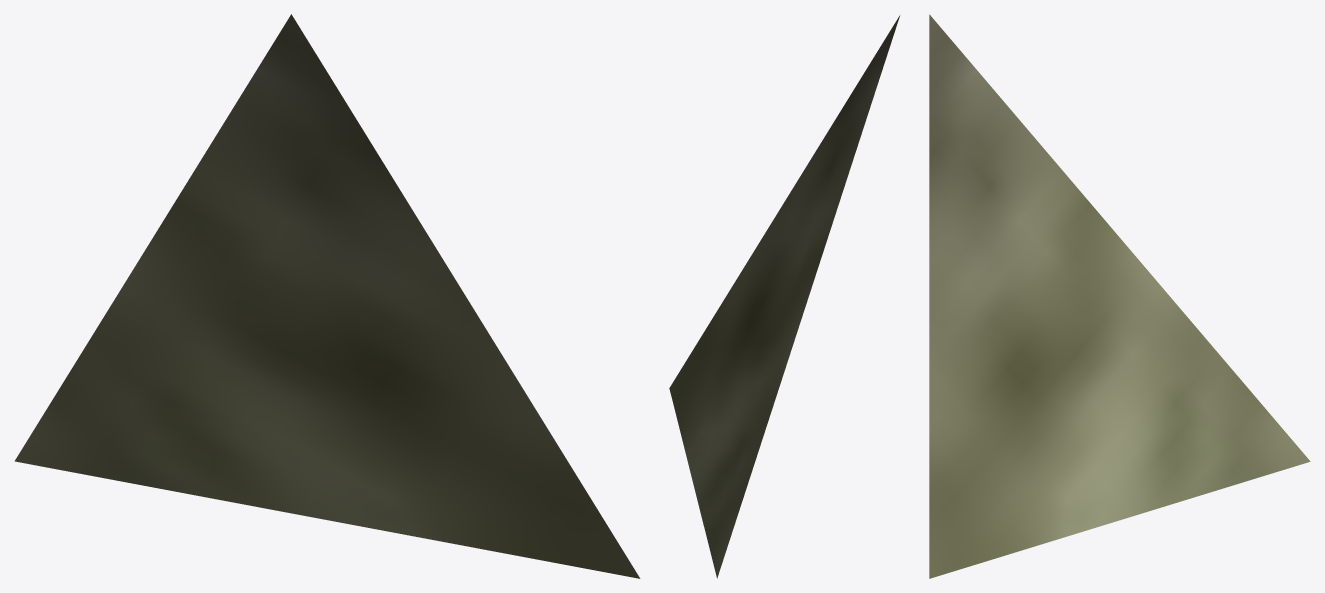
3 renders of one model, left to right at view 1: azimuth 30°, elevation 25°; view 2: azimuth 150°, elevation 25°; view 3: azimuth 270°, elevation 25°, orthographic. The views are drawn at different scales.
Bounding box in the file's own units: 0.1347 × 0.2397 × 0.1851.
1 material, 1 textured.
